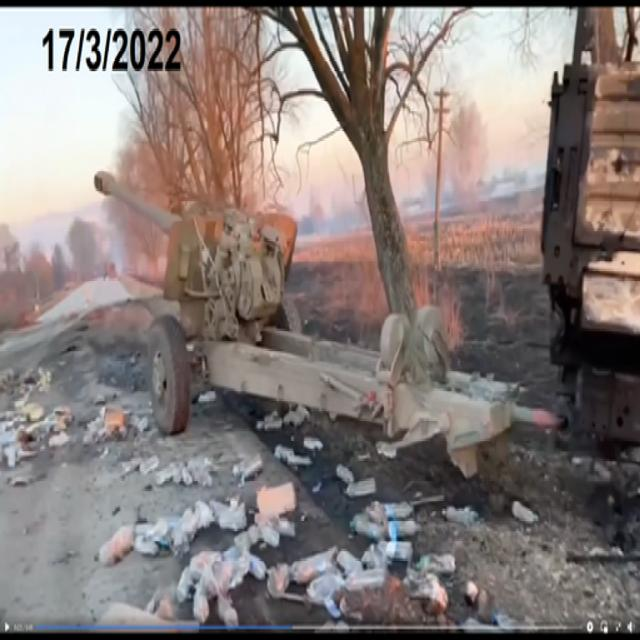ART: (92, 158, 512, 478)
